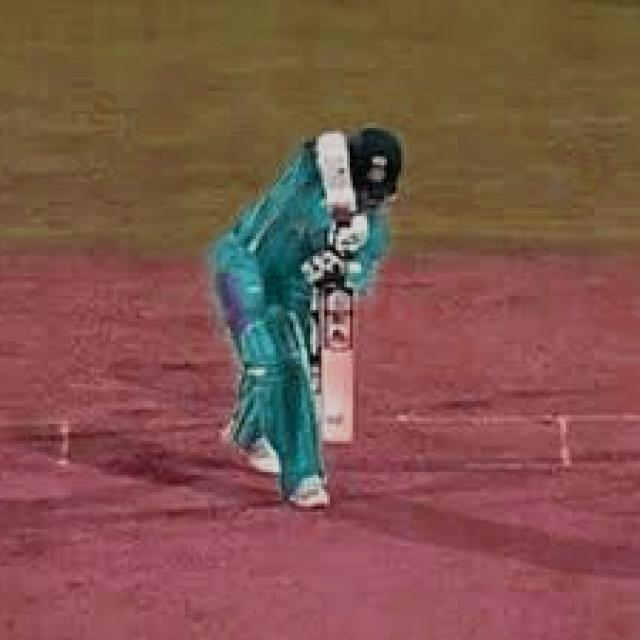bat: (315, 287, 367, 458)
toe: (324, 438, 353, 449)
